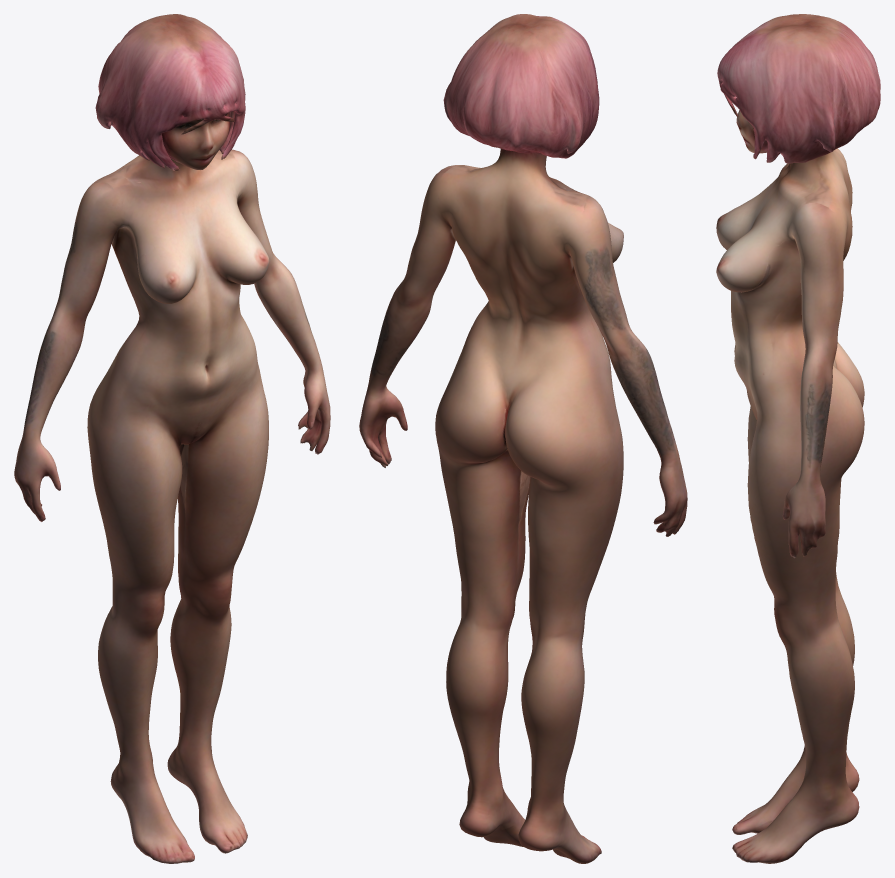
3 views of the same model, side by side, from view 1: azimuth 30°, elevation 25°; view 2: azimuth 150°, elevation 25°; view 3: azimuth 270°, elevation 25° (orthographic). The views are drawn at different scales.
Size of the model in its own units: 0.7965 by 2 by 0.3621.
Materials: 1 (1 with a texture image).
